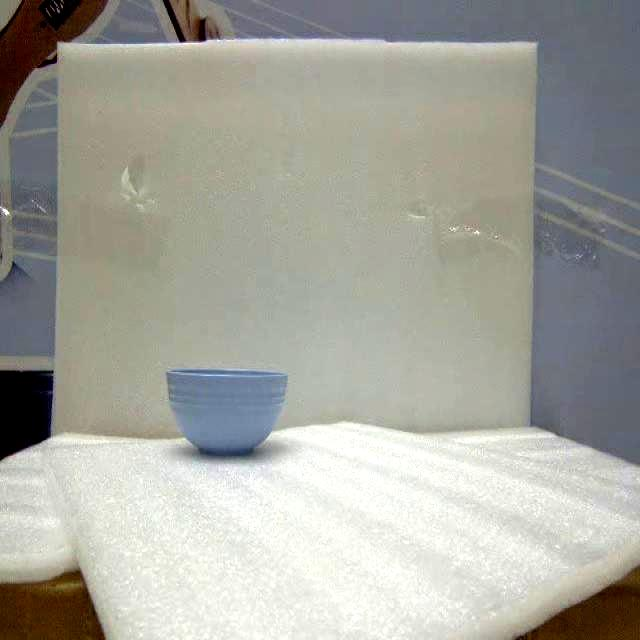Bowl: (167, 369, 286, 454)
